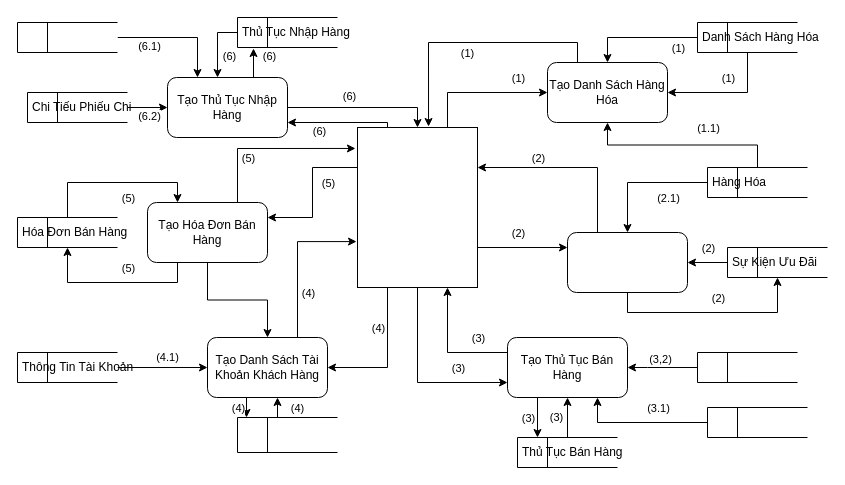
Some shapes in this 845 by 485 pixel diagram are drawn without their labels. Here are the shapes that lost their labels. From the top down, the centre of each, then its label:
At point 67,37: "Phiếu Chi".
At point 417,207: "Nhân Viên".
At point 627,262: "Tạo Sự Kiện Ưu Đãi".
At point 747,367: "Chi Tiết Phiếu Xuất".
At point 287,434: "Danh Sách Tài Khoản Khách Hàng".
At point 757,422: "Phiếu Xuất".
